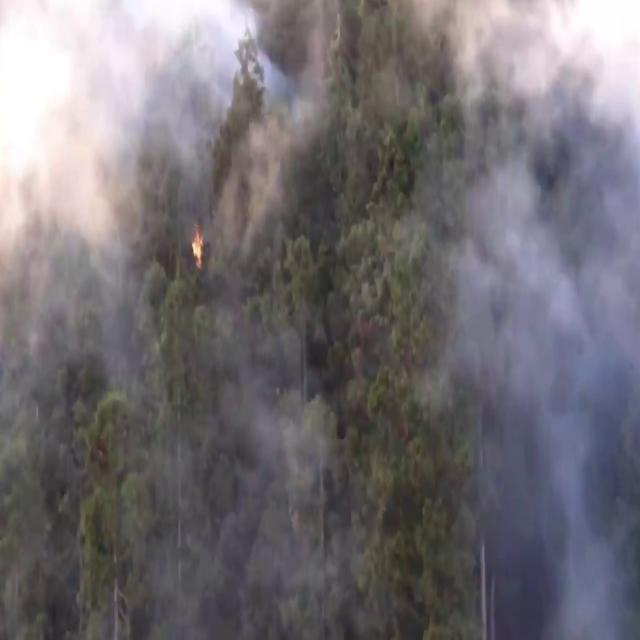Fire: (188, 221, 208, 274)
Smoke: (365, 0, 640, 628), (0, 0, 246, 418)
